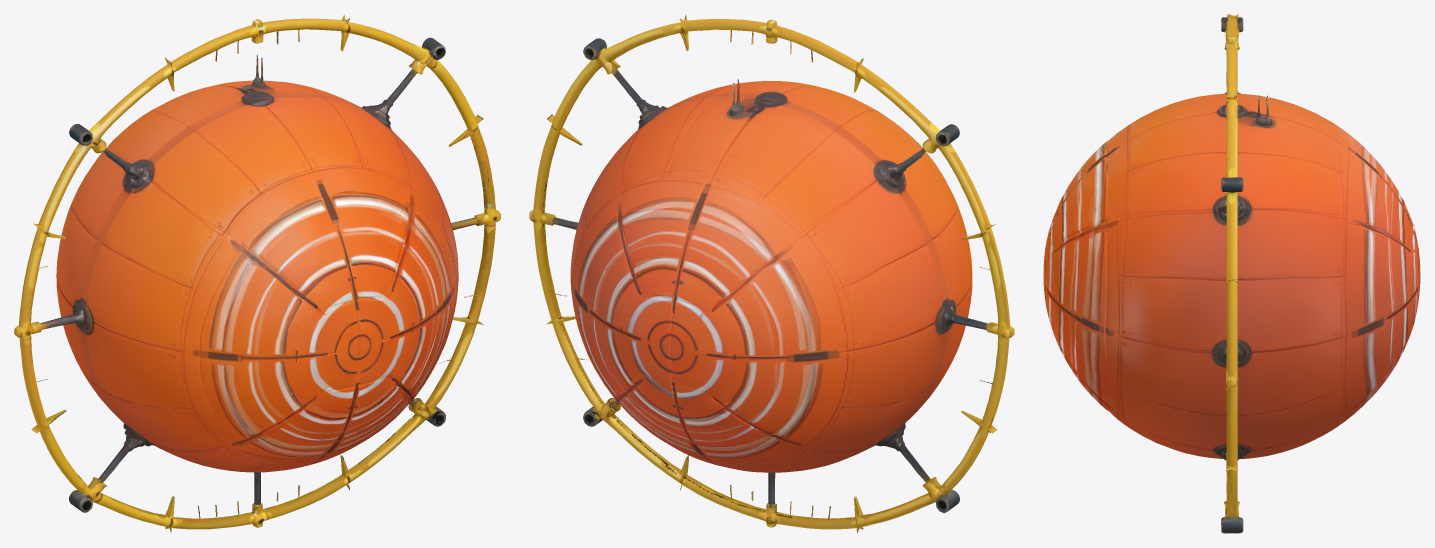
Rendered from base_basic_shaded.glb.
3 views of the same model, side by side, from view 1: azimuth 30°, elevation 25°; view 2: azimuth 150°, elevation 25°; view 3: azimuth 270°, elevation 25° (orthographic). The views are drawn at different scales.
Visible parts, largest first — view 1: model; view 2: model; view 3: model.
Part boxes in pixels (<box>): model: <box>14,14,500,533</box>; model: <box>529,14,1014,533</box>; model: <box>1043,14,1420,533</box>.
Bounding box in the file's own units: 1.9 × 1.9 × 1.38.
1 material, 1 textured.
